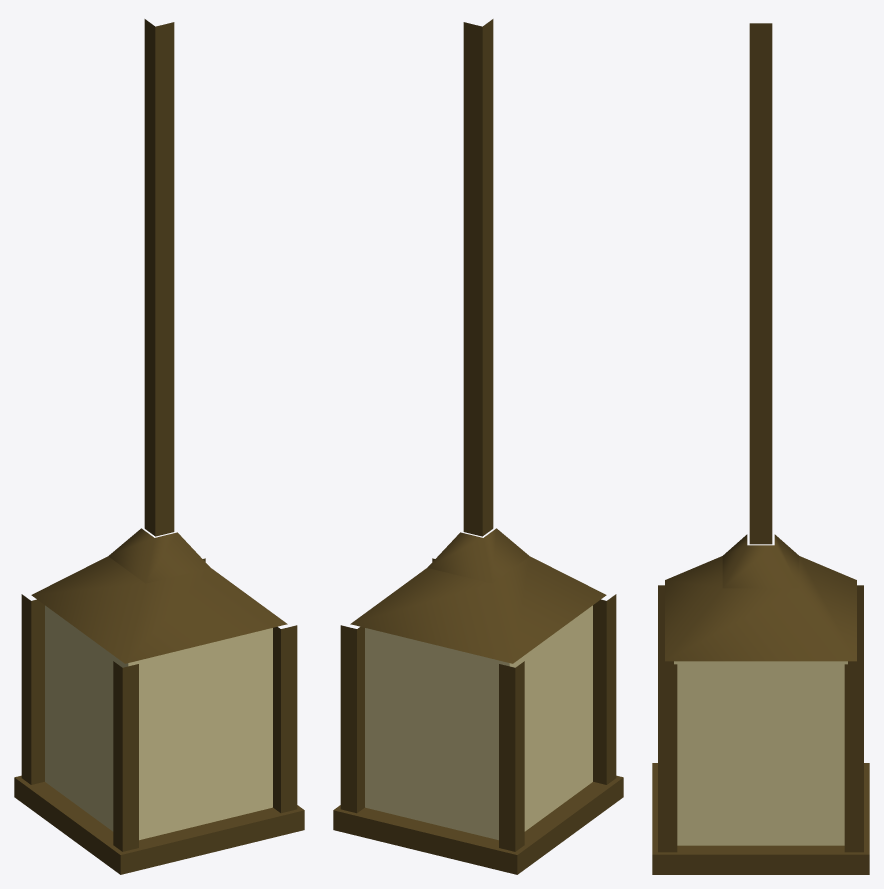
Rendered from lamp.lantern_hanging.brass.glb.
3 views of the same model, side by side, from view 1: azimuth 30°, elevation 25°; view 2: azimuth 150°, elevation 25°; view 3: azimuth 270°, elevation 25° (orthographic). The views are drawn at different scales.
Parts seen in each view (by area): view 1: lamp_lantern_hanging_brass; view 2: lamp_lantern_hanging_brass; view 3: lamp_lantern_hanging_brass.
Part boxes in pixels (x1,y1,x2,y2): lamp_lantern_hanging_brass: (14, 19, 304, 874); lamp_lantern_hanging_brass: (333, 19, 623, 874); lamp_lantern_hanging_brass: (652, 23, 869, 874).
Size of what is drawn, in the model's own units: 0.34 by 1.4 by 0.34.
